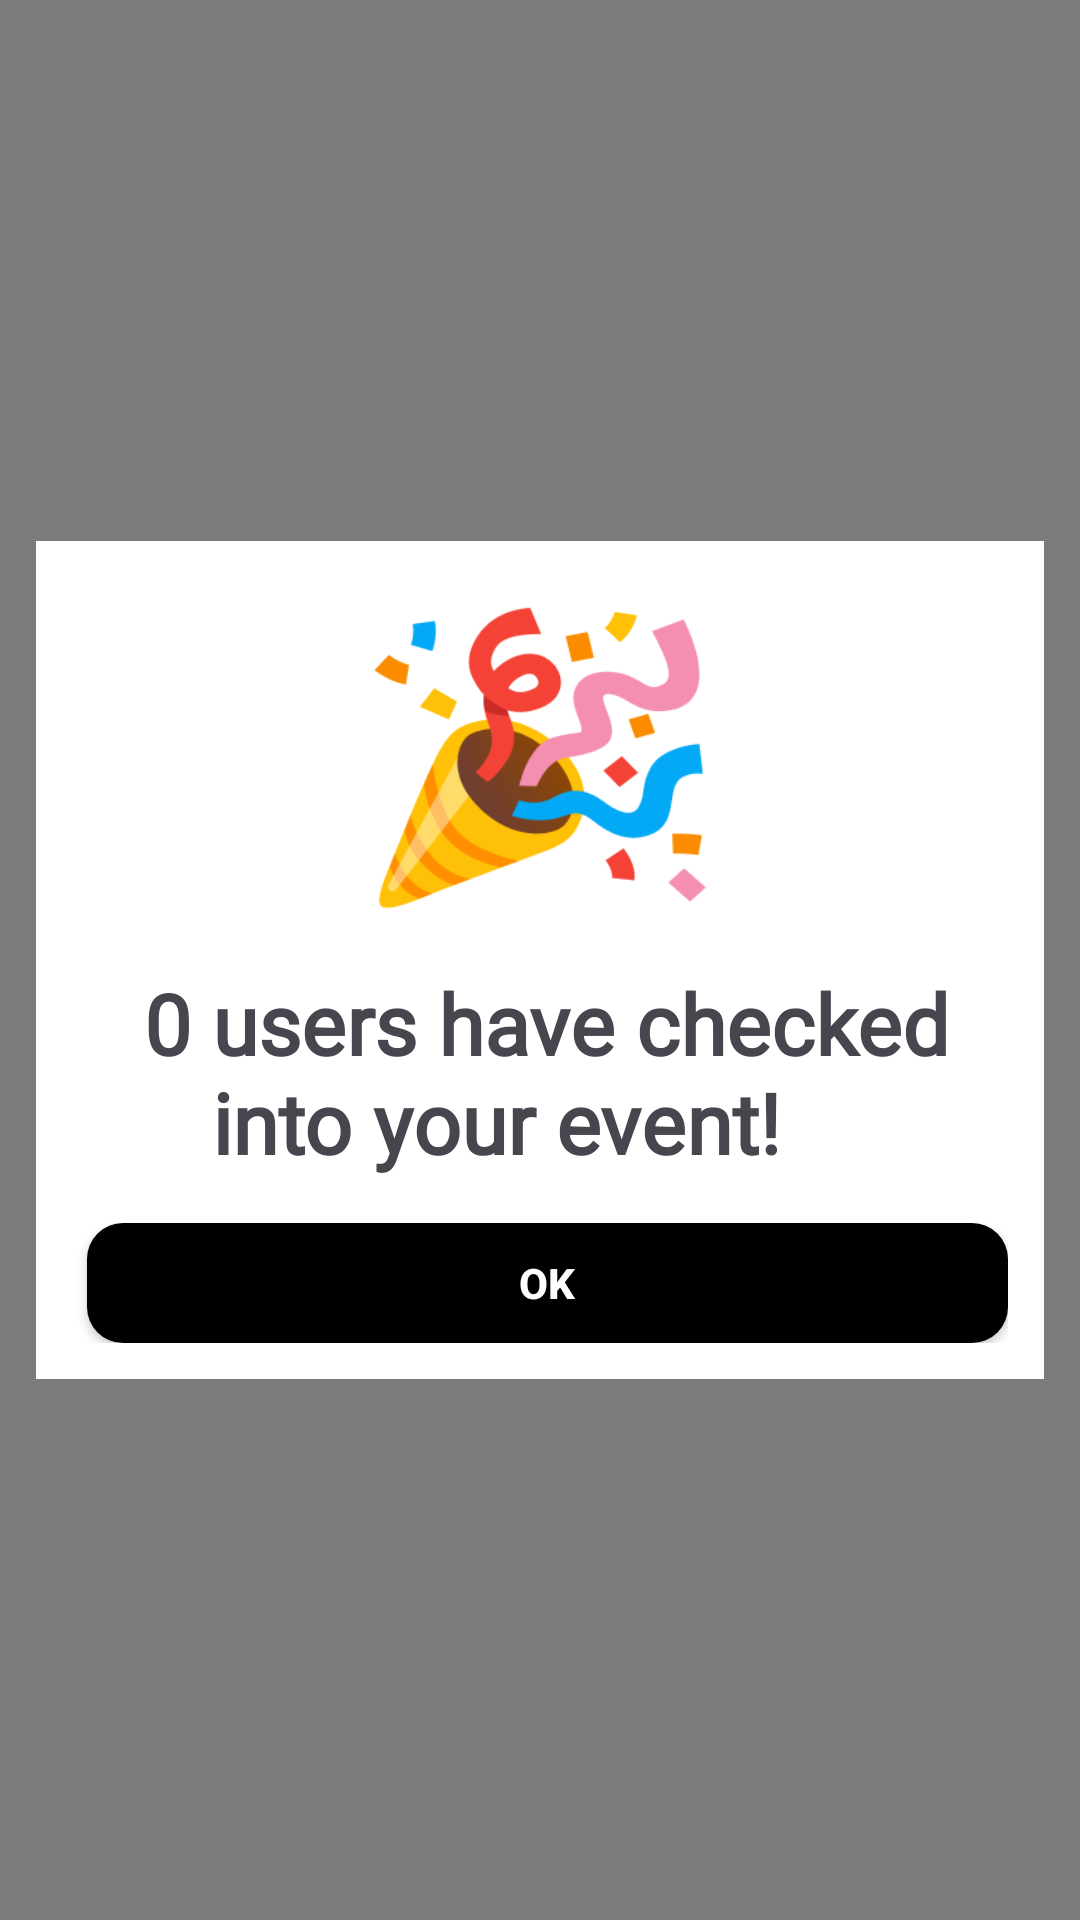

Icon bounding boxes for this 1080w x 1920h phone screenshot, format bbox=(x1, y1, x2, y2):
milestone party popper: bbox=(374, 607, 706, 909)
